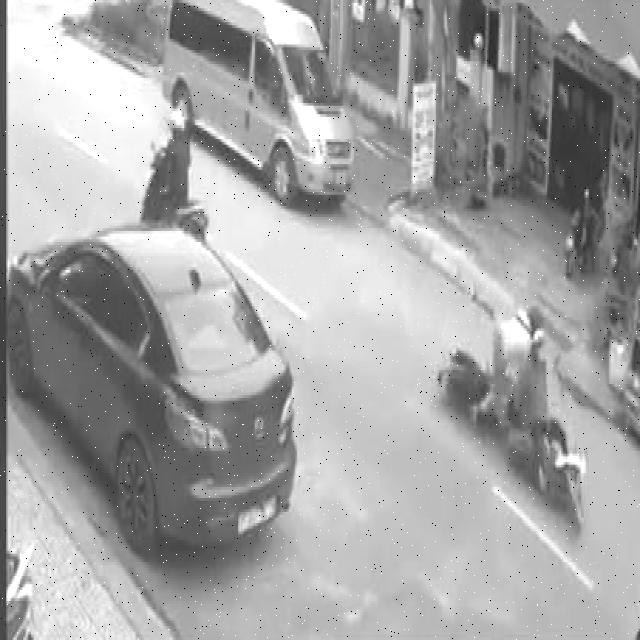accident: (433, 269, 590, 539)
